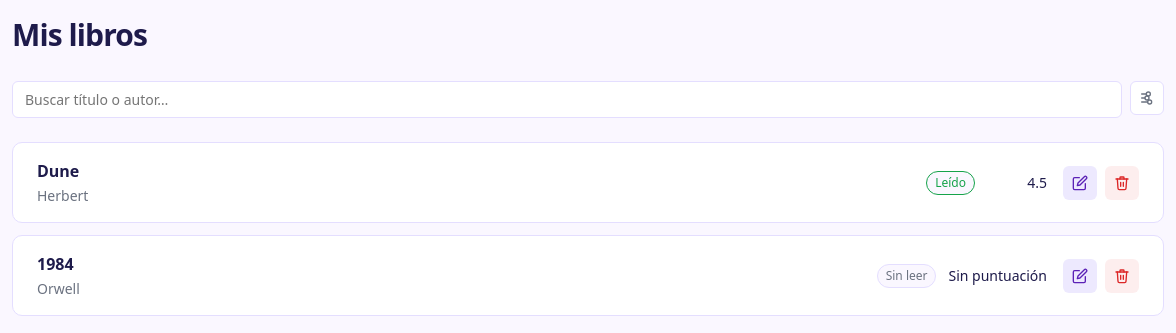
Test: MyBooksPage › opens sort dropdown when filter button is clicked
The width and height of the screenshot is (1176, 333).
Click the button titled "Ordenar": {"x": 1147, "y": 98} [1130,81,1164,115]
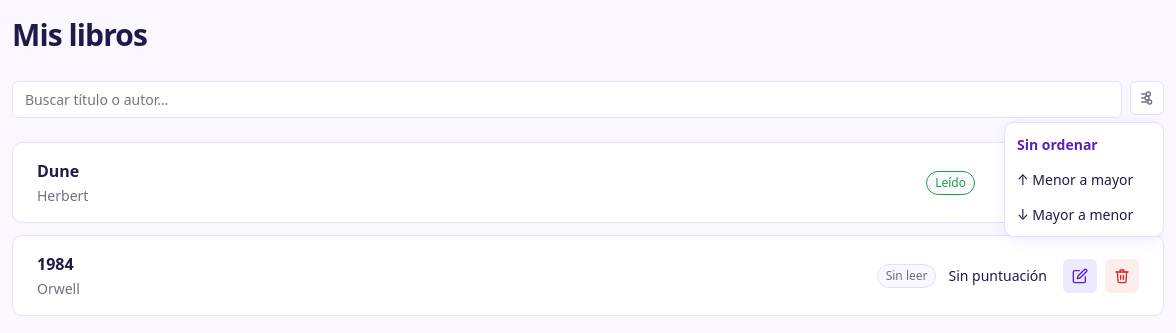
Expected: the button "Sin ordenar" is shown, [1005,127,1163,162]
Expected: the button "↑ Menor a mayor" is shown, [1005,162,1163,197]
Expected: the button "↓ Mayor a menor" is shown, [1005,197,1163,232]
